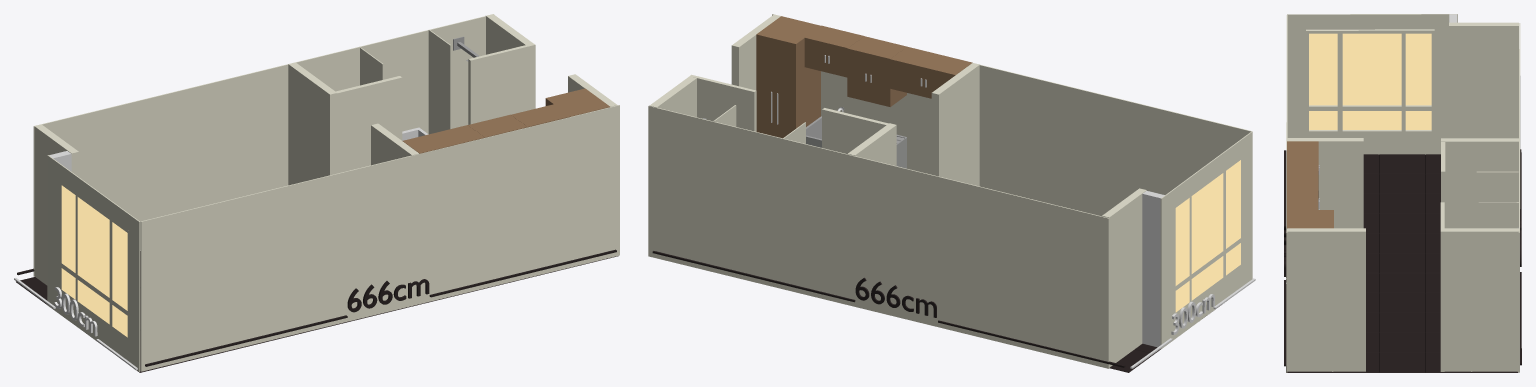
The model's file is studio.glb.
3 views of the same model, side by side, from view 1: azimuth 30°, elevation 25°; view 2: azimuth 150°, elevation 25°; view 3: azimuth 270°, elevation 25° (orthographic). The views are drawn at different scales.
Parts seen in each view (by area): view 1: righwall, leftwall, windowwall, crWall2, crWall, showerWall, backwall, Text, showerGlass, longcabinet, kitchenwall, floor (+6 smaller); view 2: leftwall, righwall, windowwall, tallCabinet, backwall, kitchenwall, mediumcabinet, smallwall, longcabinet, showerWall, Text.001, smallCabinet (+6 smaller); view 3: windowwall, floor, frontwall2, frontwall, backwall, crWall, kitchenwall, crGlass, showerGlass, longcabinet, tallCabinet, showerWall (+7 smaller).
Boxes of the visible parts, x1,y1,x2,y2 form: righwall: (140,105,619,371); leftwall: (33,14,493,276); windowwall: (47,155,140,371); crWall2: (330,76,402,174); crWall: (288,62,336,185); showerWall: (468,43,535,124); backwall: (34,124,78,285); Text: (145,249,616,366); showerGlass: (428,29,451,134); longcabinet: (402,125,484,153); kitchenwall: (371,123,419,165); floor: (16,251,618,372); leftwall: (648,106,1109,368); righwall: (772,14,1251,216); windowwall: (1160,131,1252,348); tallCabinet: (756,16,820,138); backwall: (1102,188,1146,367); kitchenwall: (931,63,979,186); mediumcabinet: (847,36,906,106); smallwall: (1142,191,1164,347); longcabinet: (890,46,972,98); showerWall: (690,74,756,131); Text.001: (652,251,1125,367); smallCabinet: (804,25,864,77); windowwall: (1287,14,1457,154); floor: (1286,154,1518,372); frontwall2: (1287,228,1365,371); frontwall: (1444,228,1519,371); backwall: (1449,22,1518,138); crWall: (1441,138,1518,228); kitchenwall: (1287,138,1363,228); crGlass: (1476,171,1518,228); showerGlass: (1478,202,1518,228); longcabinet: (1287,141,1318,198); tallCabinet: (1287,210,1333,228); showerWall: (1440,202,1444,371).
Size of the model in its own units: 6.73 by 2.02 by 3.07.
